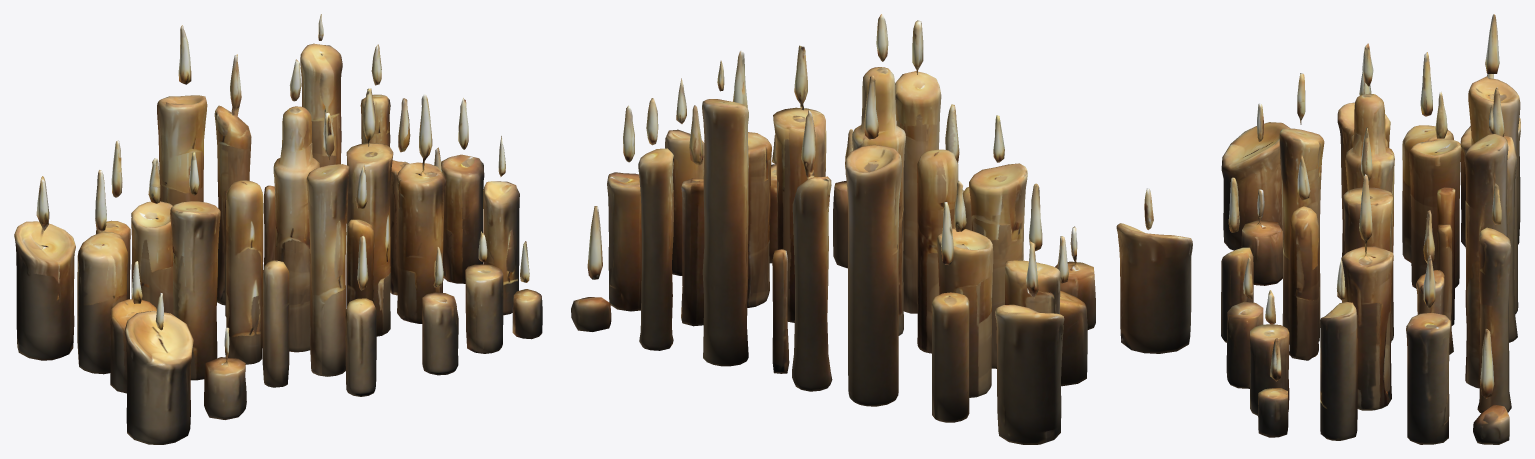
File: bunch_of_candles_Styl_0124133414_texture.fbx
3 renders of one model, left to right at view 1: azimuth 30°, elevation 25°; view 2: azimuth 150°, elevation 25°; view 3: azimuth 270°, elevation 25°, orthographic. The views are drawn at different scales.
Visible parts, largest first — view 1: Mesh1_Mesh1.015; view 2: Mesh1_Mesh1.015; view 3: Mesh1_Mesh1.015.
Part boxes in pixels (x1,y1,x2,y2): Mesh1_Mesh1.015: (14, 14, 542, 444); Mesh1_Mesh1.015: (571, 14, 1192, 444); Mesh1_Mesh1.015: (1221, 14, 1520, 444).
Bounding box in the file's own units: 199 × 127 × 115.
1 material, 1 textured.
